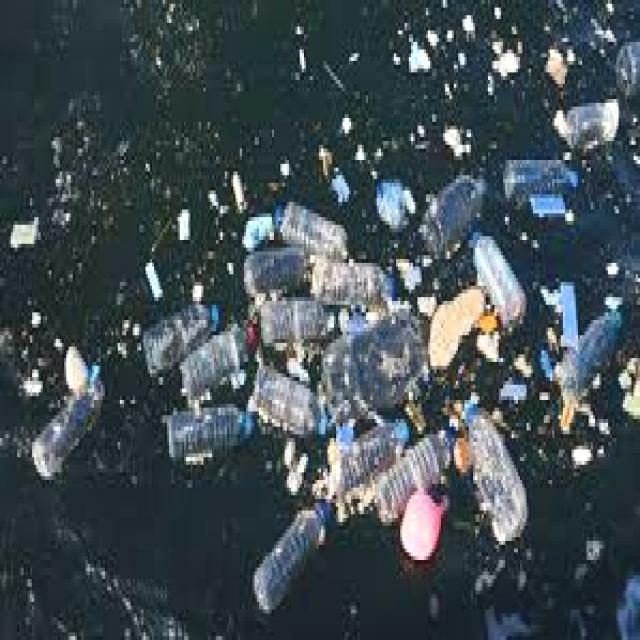plastic watse: (144, 202, 389, 396), (497, 279, 627, 468), (170, 366, 325, 457), (11, 336, 107, 472), (330, 420, 447, 518), (322, 309, 425, 419), (467, 412, 522, 537), (255, 511, 321, 605), (424, 176, 483, 255), (480, 237, 524, 323), (506, 160, 573, 209)
